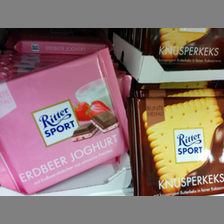chocolate: (1, 52, 125, 194), (131, 97, 224, 197)
